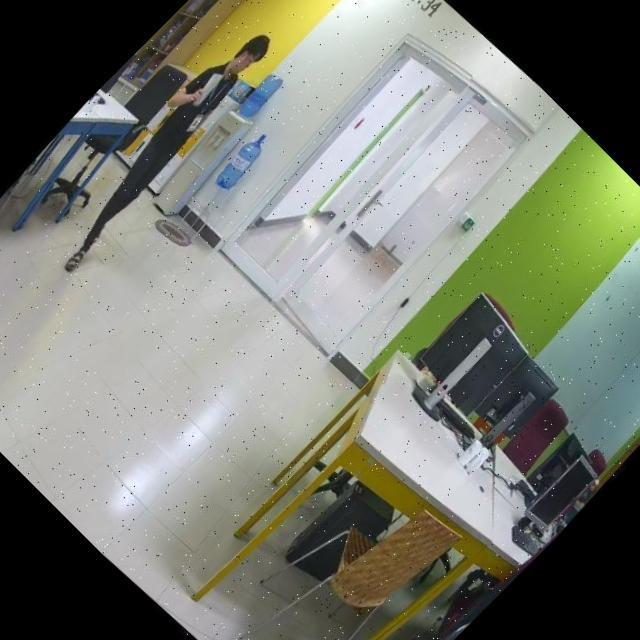person: (24, 17, 289, 282)
